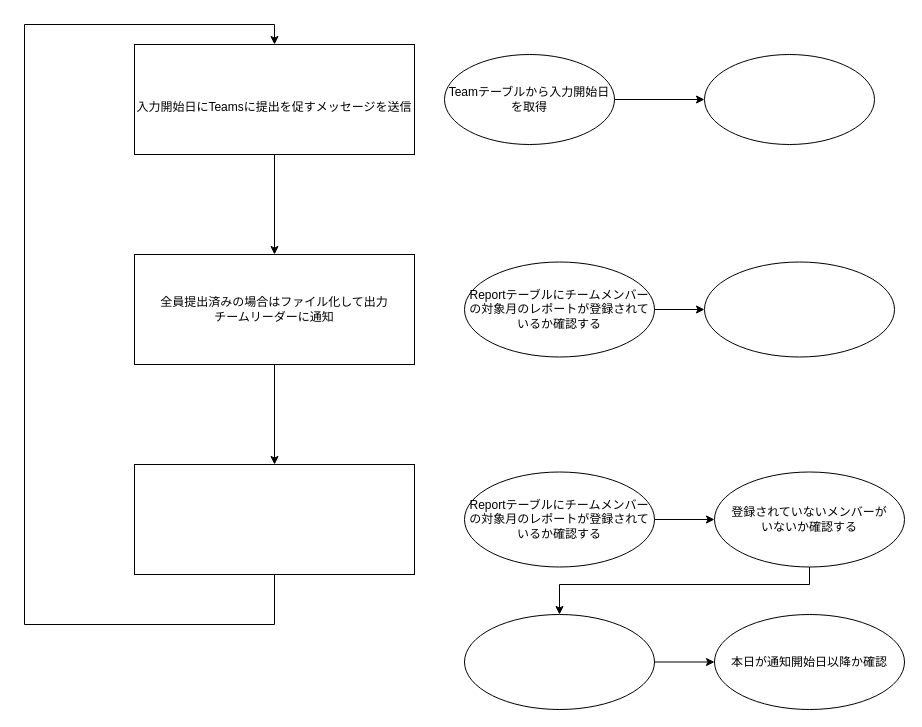
This 922x727 diagram has some shape labels left out. Each missing label, with the centre of its shape:
Teamテーブルから通知開始日 を取得: (559,662)
全員提出されているか確認: (799,309)
本日が入力開始日か確認: (789,99)
通知開始日を超えても提出されていない場合は 期限を過ぎている事を知らせるメッセージを 月末まで毎日Teamsに送信: (274,519)
